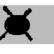correct: (0, 2, 34, 47)
